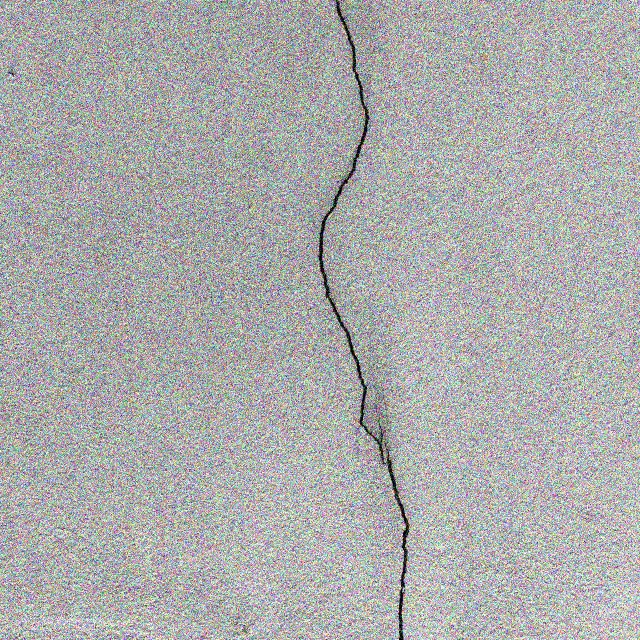SurfaceCrack: (277, 0, 447, 640)
